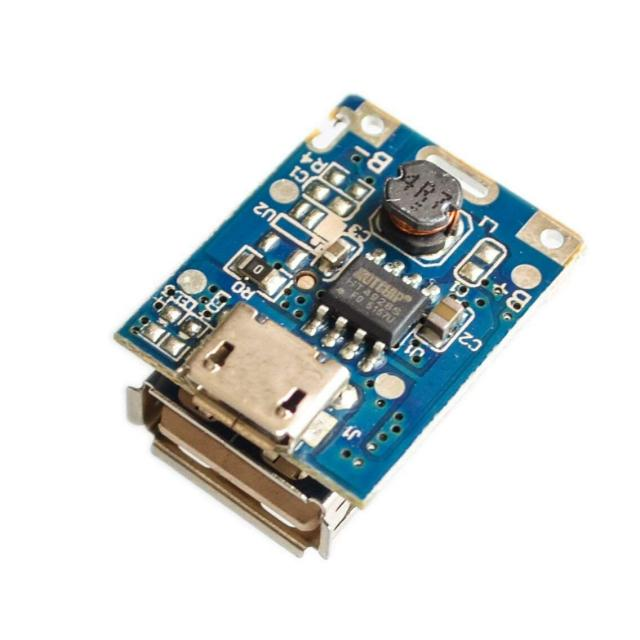IC: (323, 252, 434, 346)
capacitor 1V5: (427, 295, 466, 338), (320, 236, 352, 266)
connector -5v-: (180, 309, 356, 447)
inductor F1: (378, 148, 467, 244)
resistor IR1: (245, 248, 286, 296)
